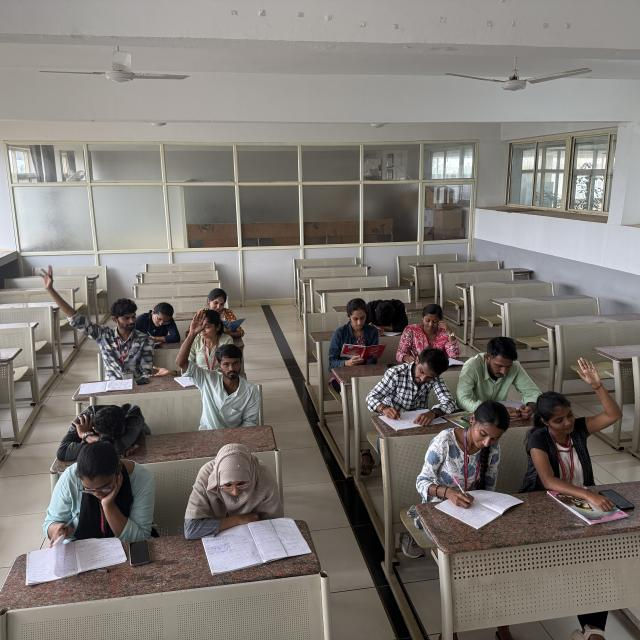Hand Rising: (527, 354, 626, 480), (41, 258, 150, 371), (176, 311, 258, 426)
Reading: (180, 445, 302, 558), (460, 335, 543, 417), (328, 294, 382, 362), (198, 289, 247, 337)
Sleeping: (60, 403, 148, 455), (365, 297, 418, 338)
Writing: (39, 442, 130, 566), (421, 400, 504, 514), (370, 346, 455, 430), (400, 300, 460, 366), (136, 301, 184, 342)
